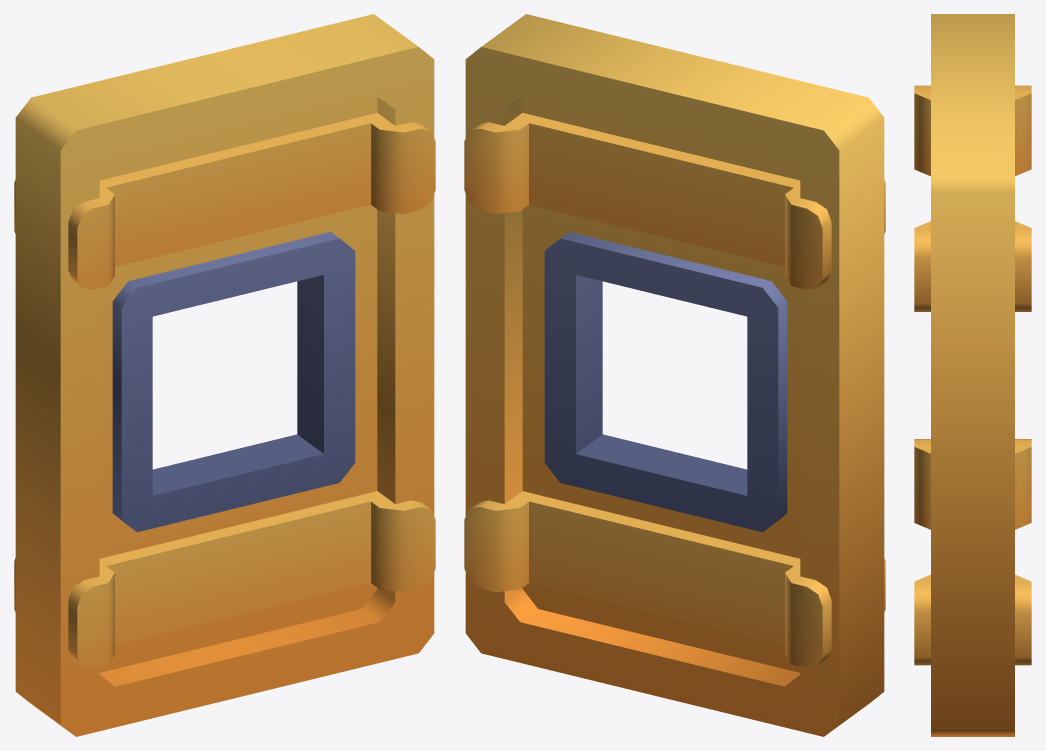
File: door.001_lev4.glb
The picture shows the model from 3 angles, left to right: view 1: azimuth 30°, elevation 25°; view 2: azimuth 150°, elevation 25°; view 3: azimuth 270°, elevation 25°; orthographic projection. The views are drawn at different scales.
Visible parts, largest first — view 1: door.001_lev4; view 2: door.001_lev4; view 3: door.001_lev4.
Boxes of the visible parts, x1=… form: door.001_lev4: x1=14, y1=14, x2=435, y2=736; door.001_lev4: x1=464, y1=14, x2=885, y2=736; door.001_lev4: x1=914, y1=14, x2=1031, y2=736.
Bounding box in the file's own units: 2.4 × 3.72 × 0.7.
Materials: 1 (1 with a texture image).
